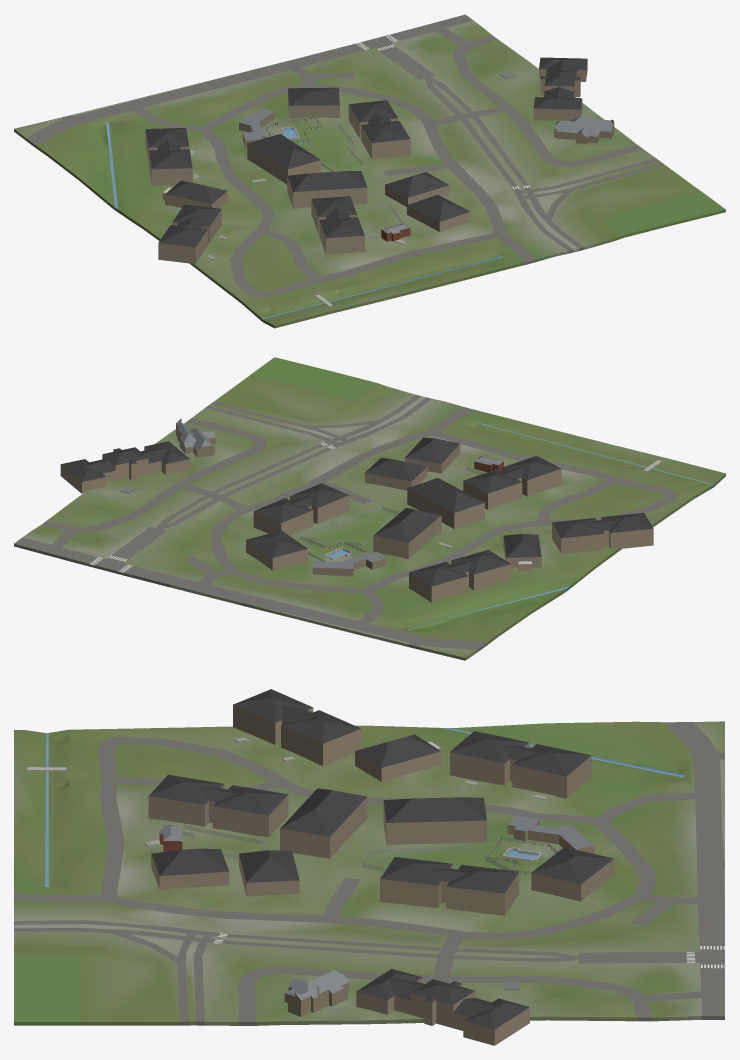
3 views of the same model, one above another, from view 1: azimuth 30°, elevation 25°; view 2: azimuth 150°, elevation 25°; view 3: azimuth 270°, elevation 25° (orthographic). The views are drawn at different scales.
Visible parts, largest first — view 1: D--2-1.L0:utd:matte, D--2-1.L0:utd:matte:flat, D--2-1.L0:utd:metal:flat, D--2-1.L0:utd:water, D--2-1.L0:utd:glass:flat; view 2: D--2-1.L0:utd:matte, D--2-1.L0:utd:matte:flat, D--2-1.L0:utd:metal:flat, D--2-1.L0:utd:glass:flat, D--2-1.L0:utd:water; view 3: D--2-1.L0:utd:matte, D--2-1.L0:utd:matte:flat, D--2-1.L0:utd:metal:flat, D--2-1.L0:utd:glass:flat, D--2-1.L0:utd:water.
Part boxes in pixels (x1,y1,x2,y2): D--2-1.L0:utd:matte: (14,14,725,328); D--2-1.L0:utd:matte:flat: (145,57,614,306); D--2-1.L0:utd:metal:flat: (239,72,612,233); D--2-1.L0:utd:water: (106,122,502,319); D--2-1.L0:utd:glass:flat: (267,118,403,239); D--2-1.L0:utd:matte: (14,357,725,660); D--2-1.L0:utd:matte:flat: (60,418,661,602); D--2-1.L0:utd:metal:flat: (120,419,503,568); D--2-1.L0:utd:glass:flat: (300,466,485,561); D--2-1.L0:utd:water: (327,421,713,629); D--2-1.L0:utd:matte: (14,721,724,1025); D--2-1.L0:utd:matte:flat: (27,689,614,1045); D--2-1.L0:utd:metal:flat: (159,815,593,1000); D--2-1.L0:utd:glass:flat: (179,824,556,874); D--2-1.L0:utd:water: (45,728,684,886).
Size of the model in its own units: 290 by 19.14 by 256.
